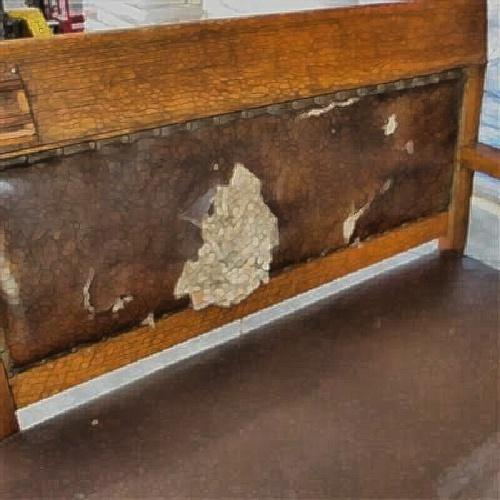chair: (31, 32, 459, 334)
